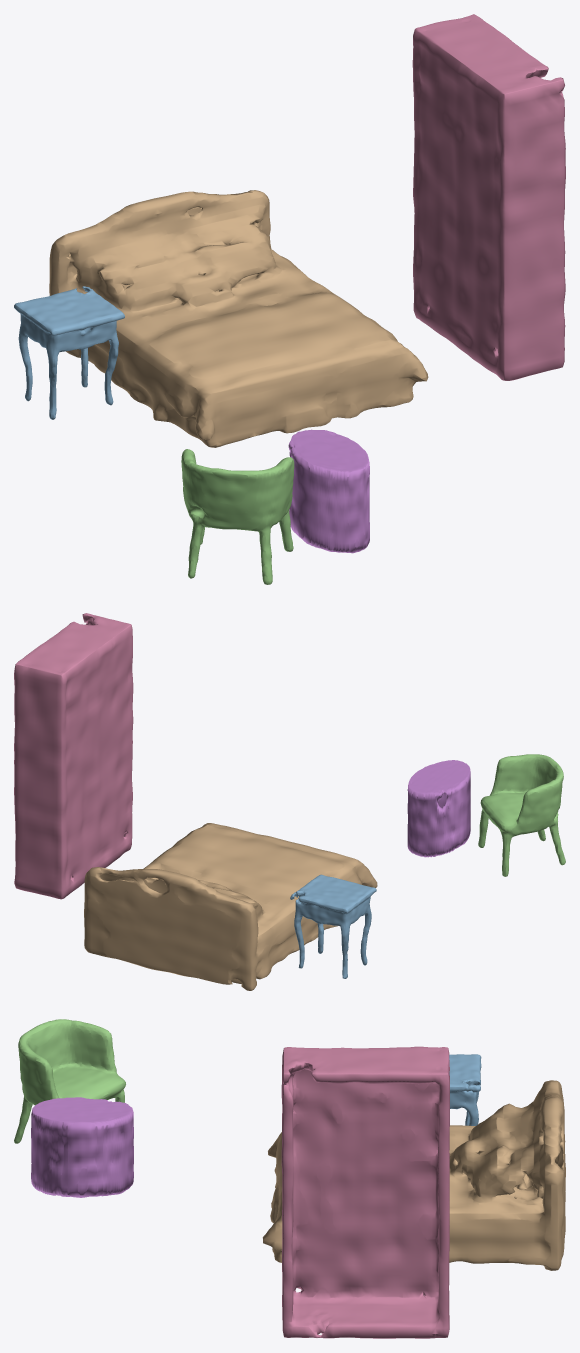
The model's file is debug_bbox_physc_colloss_walk_room_scale_1_strength_20_clip_10.1_start_0.9_interval_1.glb.
3 views of the same model, one above another, from view 1: azimuth 30°, elevation 25°; view 2: azimuth 150°, elevation 25°; view 3: azimuth 270°, elevation 25° (orthographic). The views are drawn at different scales.
Visible parts, largest first — view 1: world; view 2: world; view 3: world.
Part boxes in pixels (left/top/right/bottom): world: left=14, top=14, right=565, bottom=584; world: left=14, top=613, right=565, bottom=990; world: left=14, top=1019, right=565, bottom=1338.
Size of the model in its own units: 3.97 by 2.23 by 4.14.
